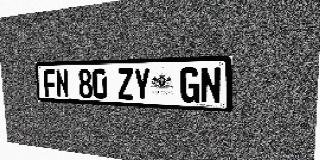0: (92, 69, 107, 99)
8: (78, 69, 93, 98)
F: (43, 69, 57, 97)
G: (180, 67, 200, 103)
N: (200, 67, 221, 104), (55, 69, 69, 97)
Y: (133, 68, 151, 101)
Z: (117, 68, 134, 100)
